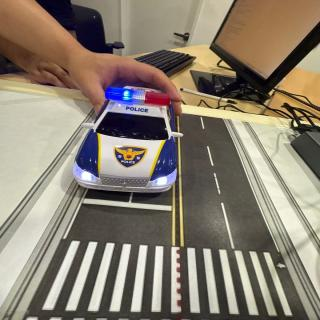Police_car: (73, 87, 183, 192)
